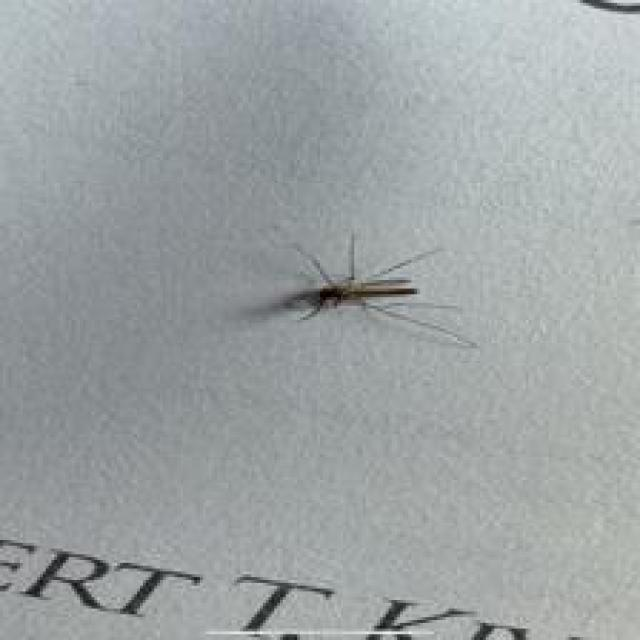Culex: (253, 228, 478, 352)
